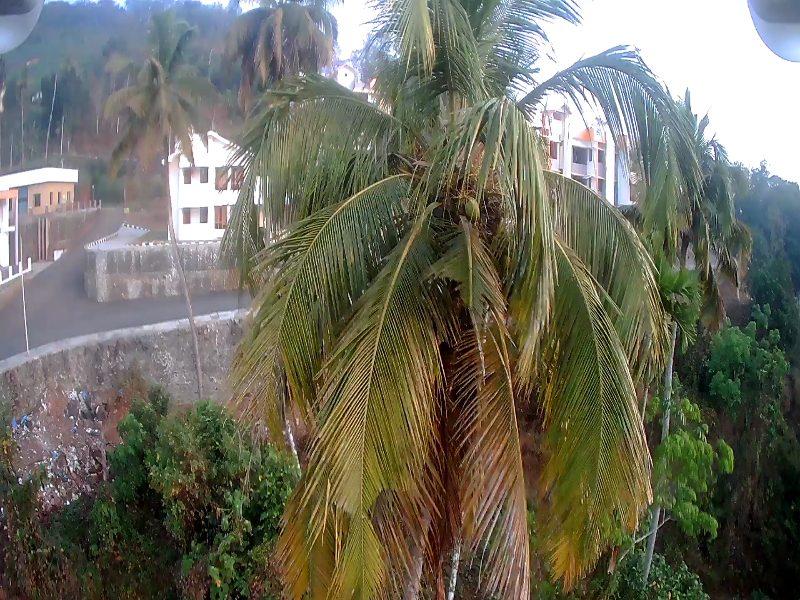coconut: (455, 195, 477, 223)
